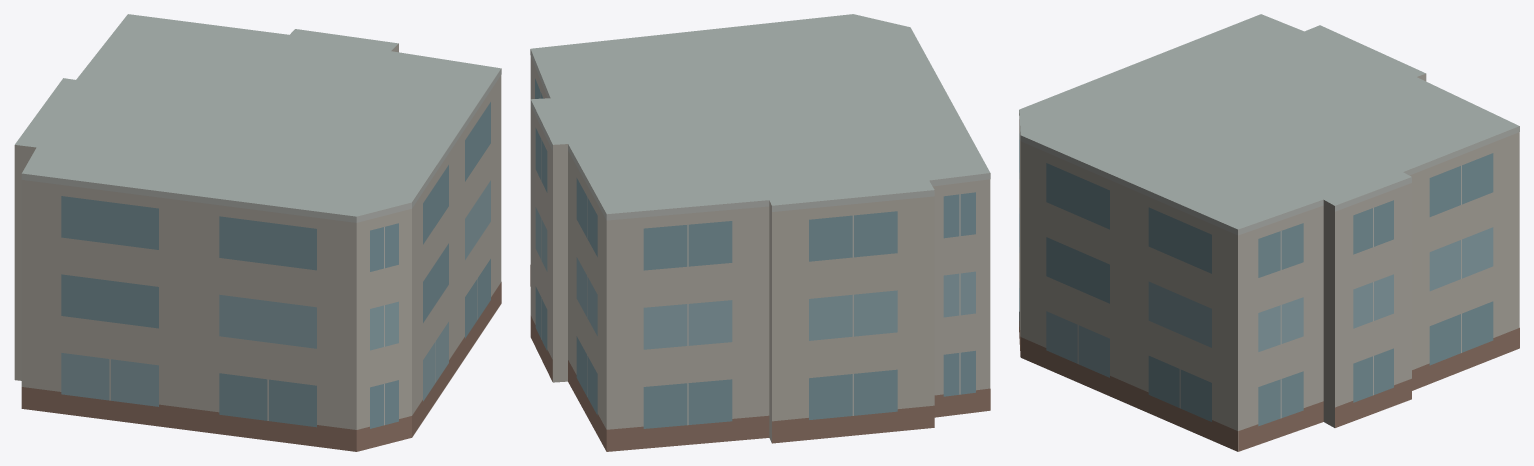
Rendered from survey-upis-32677390.glb.
The picture shows the model from 3 angles, left to right: view 1: azimuth 30°, elevation 25°; view 2: azimuth 150°, elevation 25°; view 3: azimuth 270°, elevation 25°; orthographic projection. The views are drawn at different scales.
Parts seen in each view (by area): view 1: survey-upis-32677390.tmp; view 2: survey-upis-32677390.tmp; view 3: survey-upis-32677390.tmp.
Part boxes in pixels (<box>): survey-upis-32677390.tmp: <box>14,14,501,451</box>; survey-upis-32677390.tmp: <box>530,14,990,451</box>; survey-upis-32677390.tmp: <box>1019,14,1519,451</box>.
Size of the model in its own units: 19.04 by 9.15 by 18.68.
